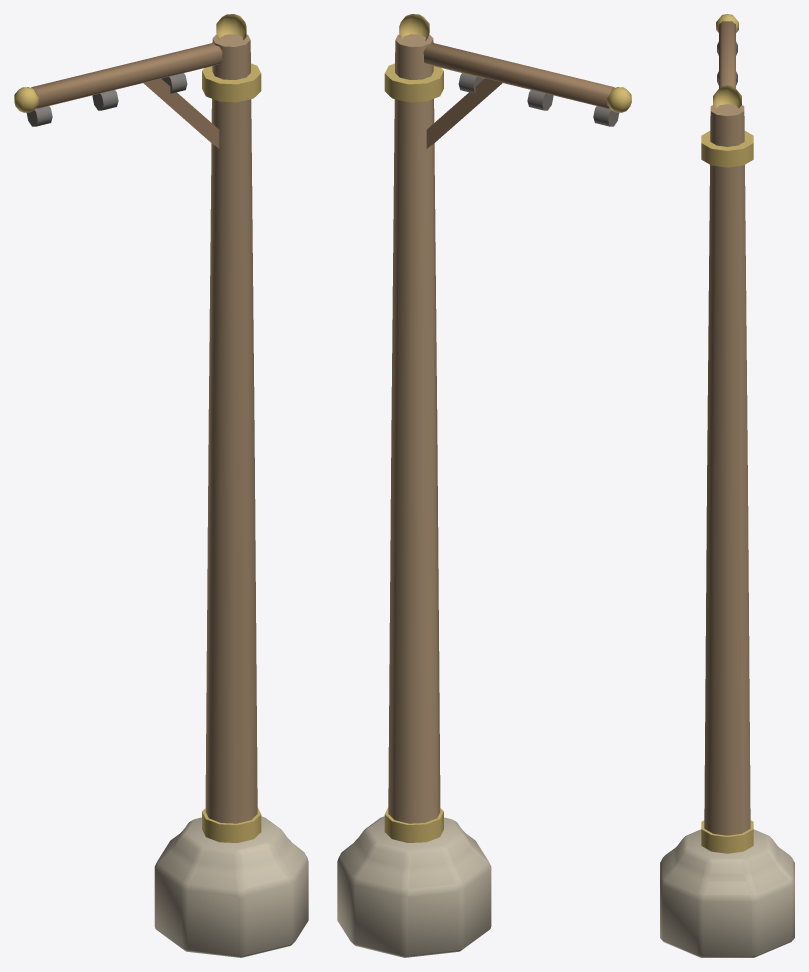
Rendered from banner_pole.glb.
3 views of the same model, side by side, from view 1: azimuth 30°, elevation 25°; view 2: azimuth 150°, elevation 25°; view 3: azimuth 270°, elevation 25° (orthographic). The views are drawn at different scales.
Visible parts, largest first — view 1: banner_pole; view 2: banner_pole; view 3: banner_pole.
Boxes of the visible parts, x1=… form: banner_pole: x1=14, y1=14, x2=308, y2=957; banner_pole: x1=337, y1=14, x2=631, y2=957; banner_pole: x1=660, y1=14, x2=794, y2=957.
Size of the model in its own units: 4.87 by 15.2 by 2.2.
